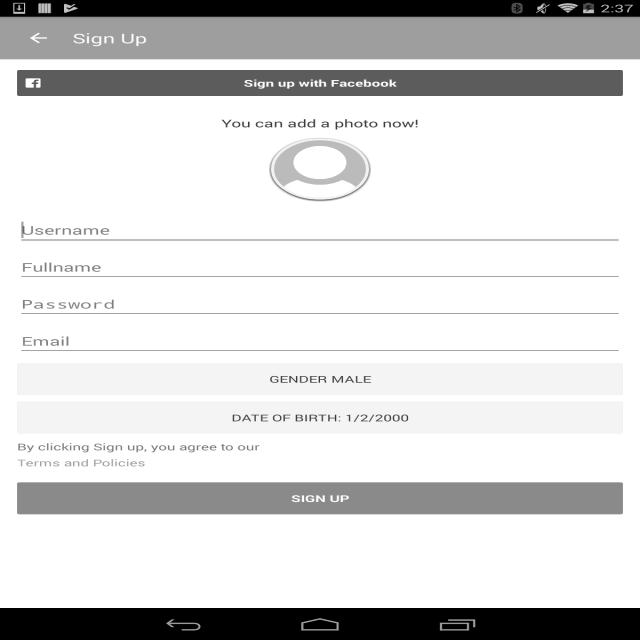Button: (17, 363, 623, 395), (17, 402, 623, 434), (17, 482, 623, 514), (17, 70, 623, 96)
EditText: (17, 215, 623, 245), (17, 252, 623, 282), (17, 289, 623, 319), (17, 326, 623, 356)
ImageButton: (9, 17, 68, 59)
ImageView: (269, 137, 371, 202)
TextView: (17, 440, 260, 453), (221, 116, 419, 130), (17, 456, 146, 469), (73, 29, 147, 47)
